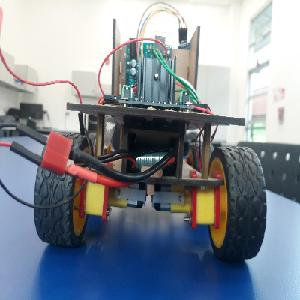Robot: (32, 14, 268, 260)
